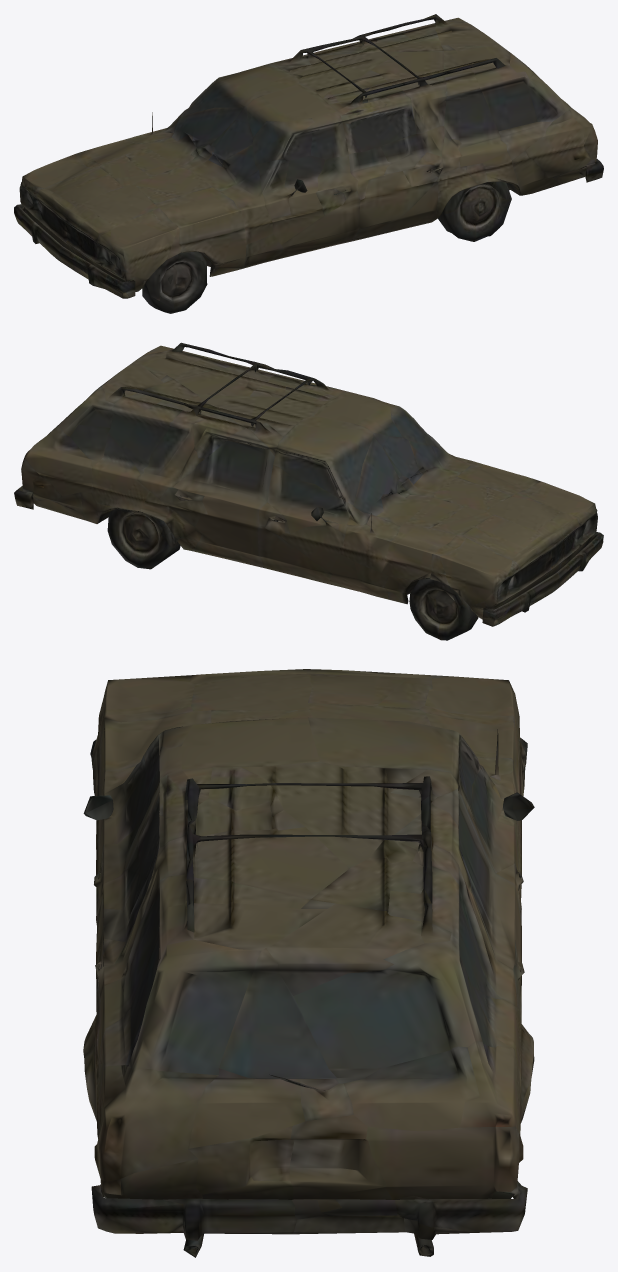
File: car_hatchback_light_q3.glb
The picture shows the model from 3 angles, top to bottom: view 1: azimuth 30°, elevation 25°; view 2: azimuth 150°, elevation 25°; view 3: azimuth 270°, elevation 25°; orthographic projection. The views are drawn at different scales.
Size of the model in its own units: 4.62 by 1.44 by 1.82.
1 material, 1 textured.
